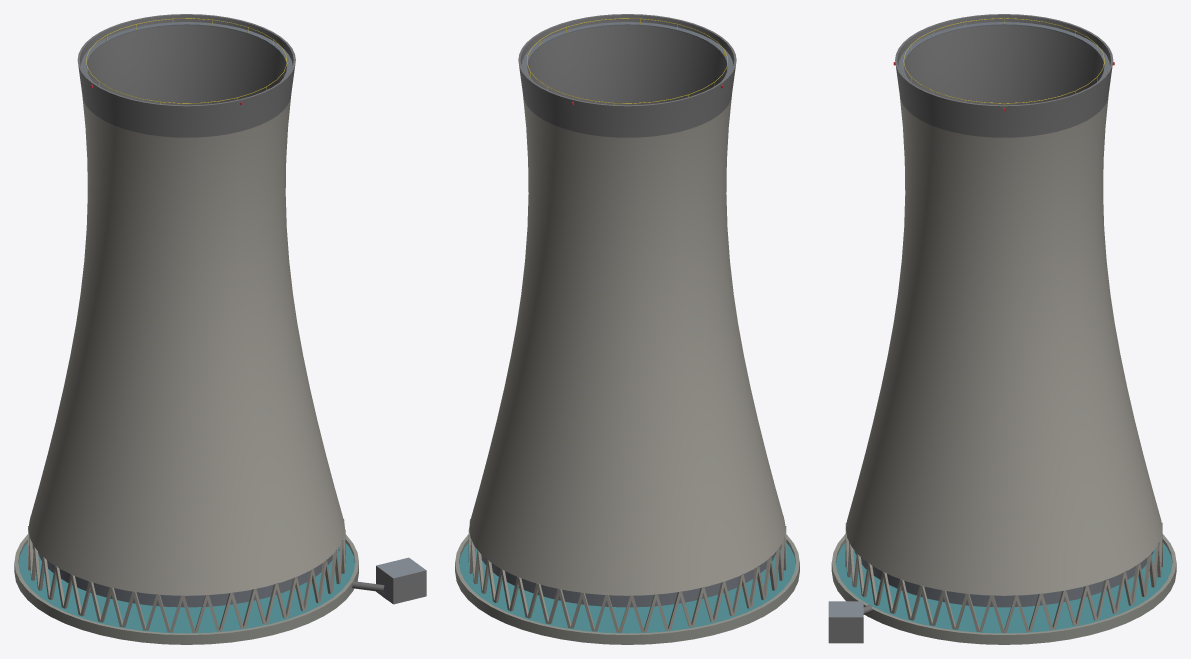
Rendered from mashup-cooling-top-prebuilt_close.fbx.
3 views of the same model, side by side, from view 1: azimuth 30°, elevation 25°; view 2: azimuth 150°, elevation 25°; view 3: azimuth 270°, elevation 25° (orthographic).
Visible parts, largest first — view 1: a1057/0/mashup-cooling-top-prebuilt_close; view 2: a1057/0/mashup-cooling-top-prebuilt_close; view 3: a1057/0/mashup-cooling-top-prebuilt_close.
Part boxes in pixels (<box>): a1057/0/mashup-cooling-top-prebuilt_close: <box>14,14,426,644</box>; a1057/0/mashup-cooling-top-prebuilt_close: <box>455,14,799,644</box>; a1057/0/mashup-cooling-top-prebuilt_close: <box>828,14,1176,644</box>.
Bounding box in the file's own units: 54.5 × 88.5 × 54.53.
